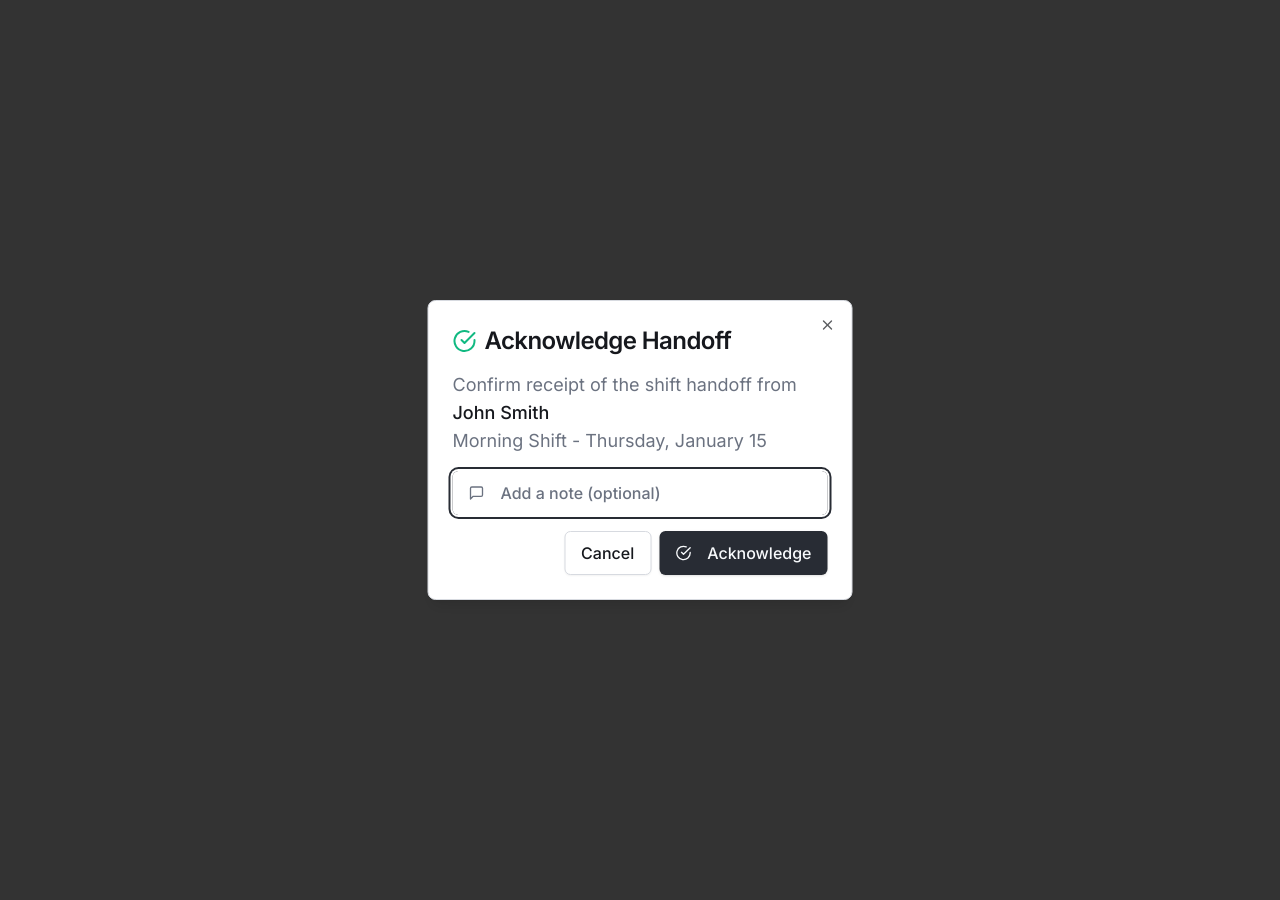
it: HandoffAcknowledge › Notes Input (AC#3) › shows notes textarea after clicking add note button
Click the button "Add a note (optional)".
click(640, 493)  # box [452,471,828,515]
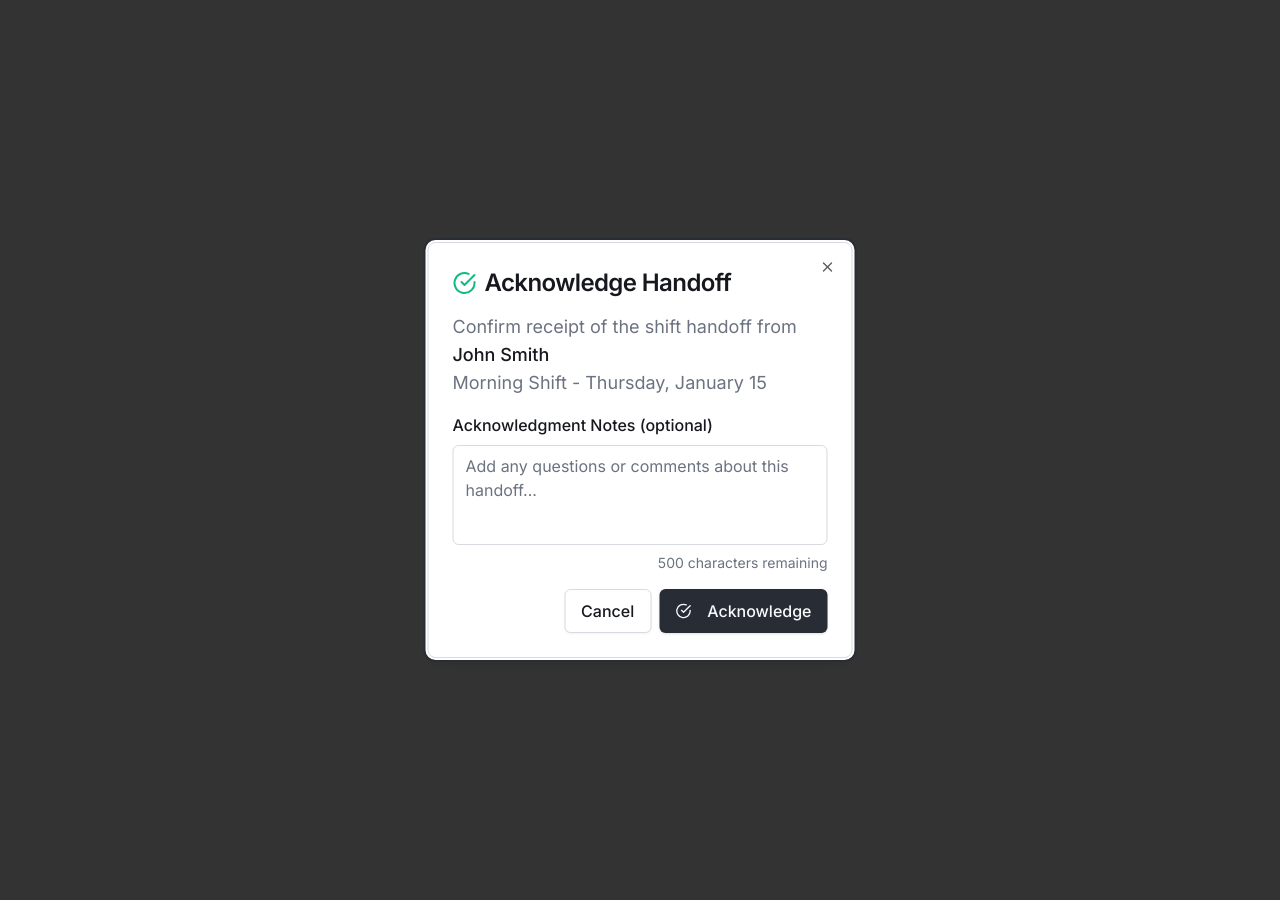
Expected: the text box labelled "Acknowledgment Notes (optional)" is shown, [452,445,828,545]
